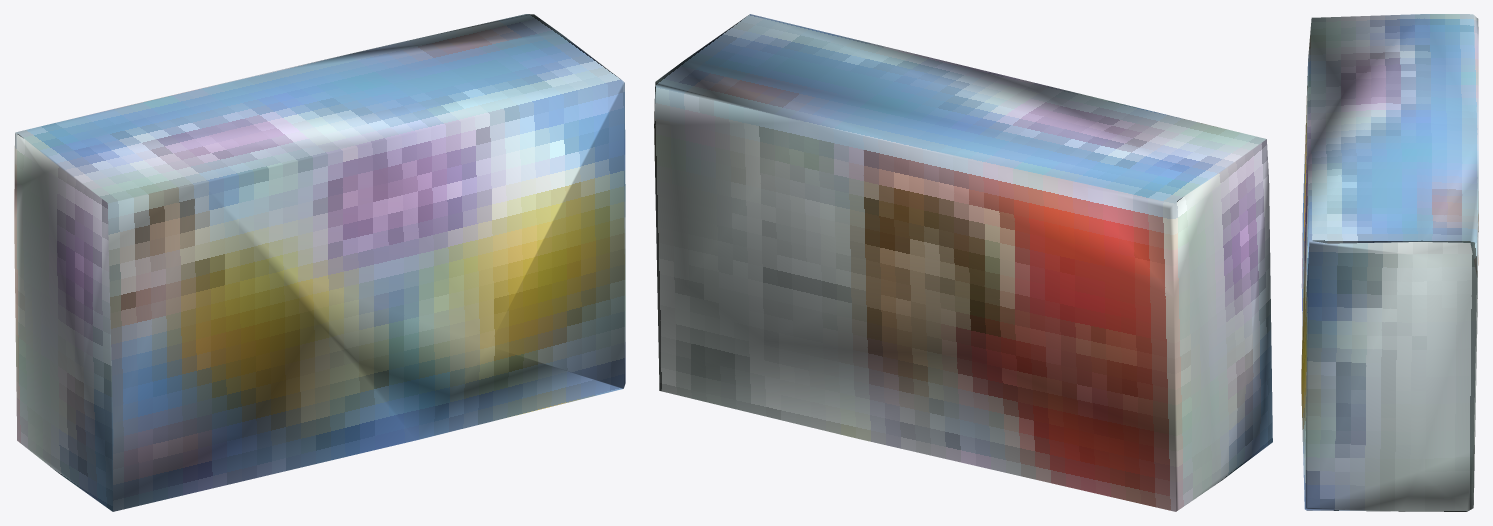
Rendered from Little_Debbie_Cloud_Cakes_10_ct-low.glb.
3 renders of one model, left to right at view 1: azimuth 30°, elevation 25°; view 2: azimuth 150°, elevation 25°; view 3: azimuth 270°, elevation 25°, orthographic. The views are drawn at different scales.
Visible parts, largest first — view 1: Little_Debbie_Cloud_Cakes_10_ct; view 2: Little_Debbie_Cloud_Cakes_10_ct; view 3: Little_Debbie_Cloud_Cakes_10_ct.
Boxes of the visible parts, box(x1,y1,x2,y2) form: Little_Debbie_Cloud_Cakes_10_ct: box(14, 14, 625, 511); Little_Debbie_Cloud_Cakes_10_ct: box(654, 14, 1272, 511); Little_Debbie_Cloud_Cakes_10_ct: box(1301, 14, 1478, 511).
Size of the model in its own units: 0.2415 by 0.1383 by 0.0803.
Materials: 1 (1 with a texture image).
